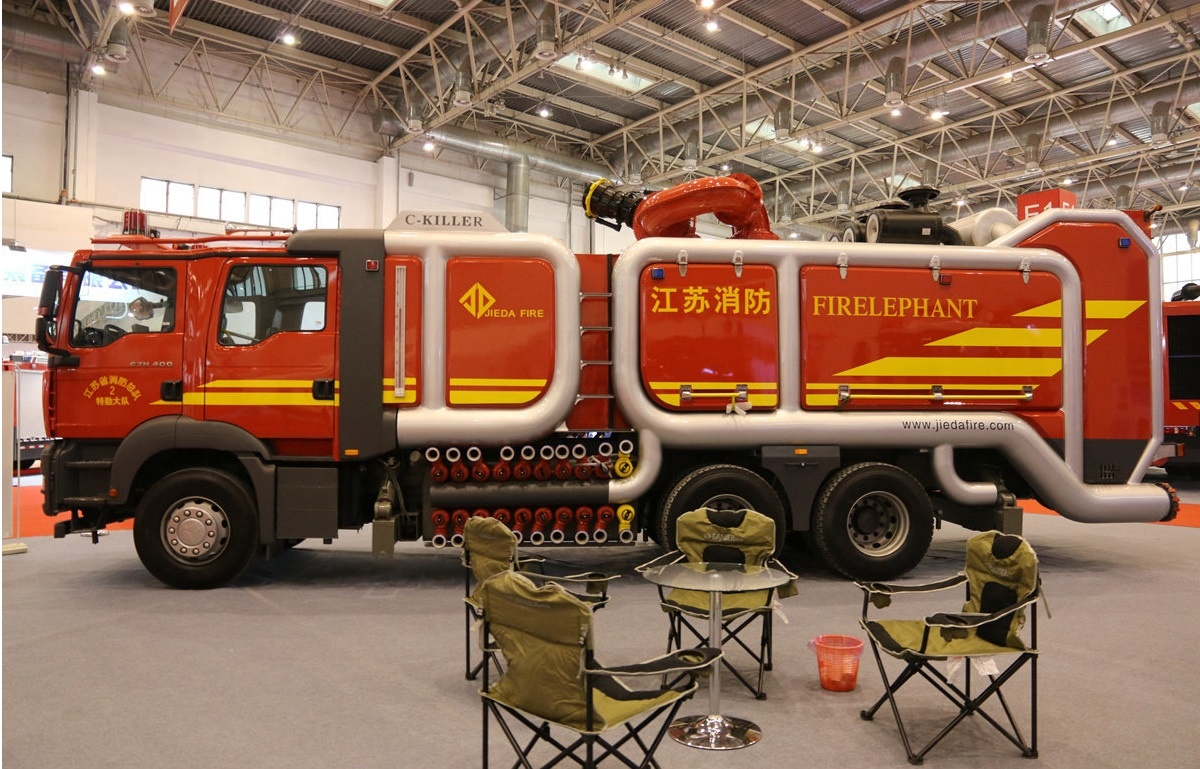fire engine: (37, 201, 1192, 590)
